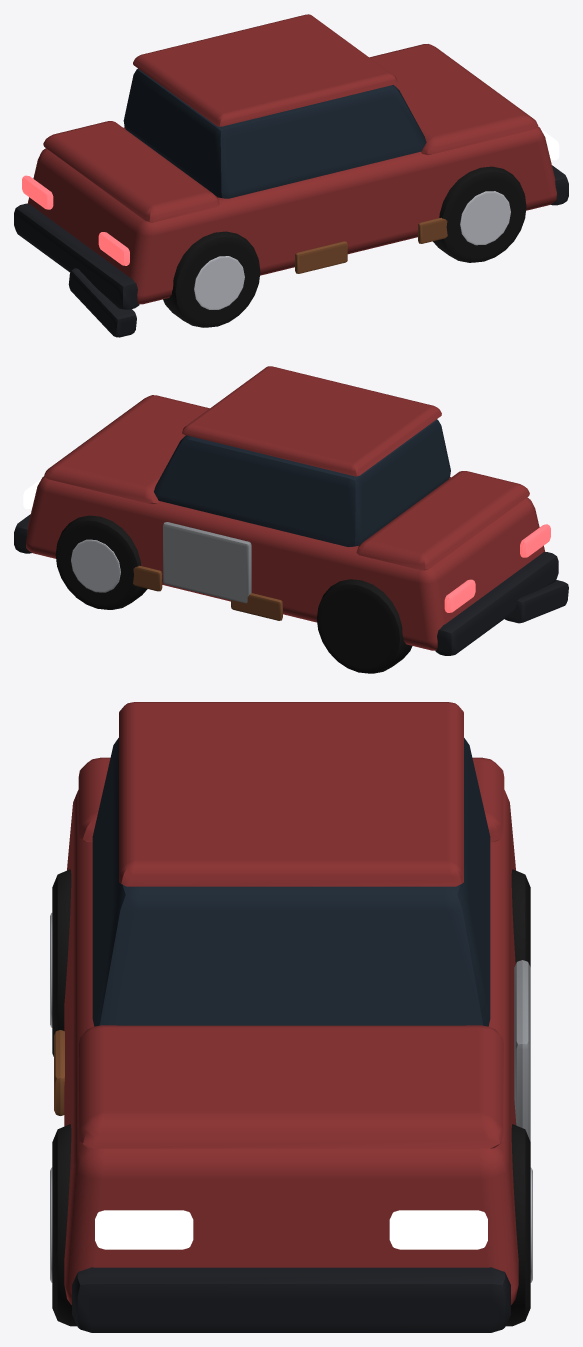
Rendered from beater.glb.
3 renders of one model, top to bottom at view 1: azimuth 30°, elevation 25°; view 2: azimuth 150°, elevation 25°; view 3: azimuth 270°, elevation 25°, orthographic. The views are drawn at different scales.
Visible parts, largest first — view 1: part-paint, part-glass, part-tyre, part-trim, part-chrome, part-rust, part-taillight; view 2: part-paint, part-glass, part-tyre, part-trim, part-primer, part-chrome, part-rust, part-taillight; view 3: part-paint, part-glass, part-trim, part-tyre, headlight-1, headlight--1, part-primer, part-chrome, part-rust.
Part boxes in pixels (x1,y1,x2,y2): part-paint: (27, 14, 556, 304); part-glass: (123, 68, 426, 198); part-tyre: (163, 166, 526, 327); part-trim: (14, 165, 568, 337); part-chrome: (194, 191, 510, 309); part-rust: (295, 217, 447, 273); part-taillight: (22, 175, 129, 265); part-paint: (26, 366, 545, 650); part-glass: (154, 419, 450, 547); part-tyre: (55, 515, 412, 673); part-trim: (14, 514, 568, 655); part-primer: (163, 522, 251, 603); part-chrome: (71, 539, 120, 592); part-rust: (133, 565, 282, 620); part-taillight: (444, 524, 550, 612); part-paint: (64, 702, 518, 1304); part-glass: (92, 738, 490, 1026); part-trim: (72, 1267, 510, 1332); part-tyre: (52, 869, 530, 1326); headlight-1: (389, 1210, 487, 1249); headlight--1: (95, 1210, 193, 1249); part-primer: (514, 960, 530, 1141); part-chrome: (50, 913, 532, 1282); part-rust: (54, 1030, 64, 1115).
Size of the model in its own units: 31.7 by 12.9 by 14.74.
